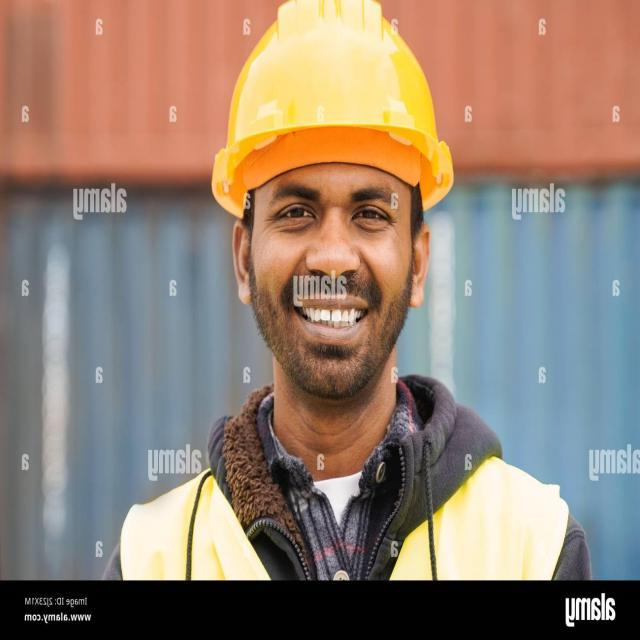safetyhelmet: (207, 0, 457, 314)
